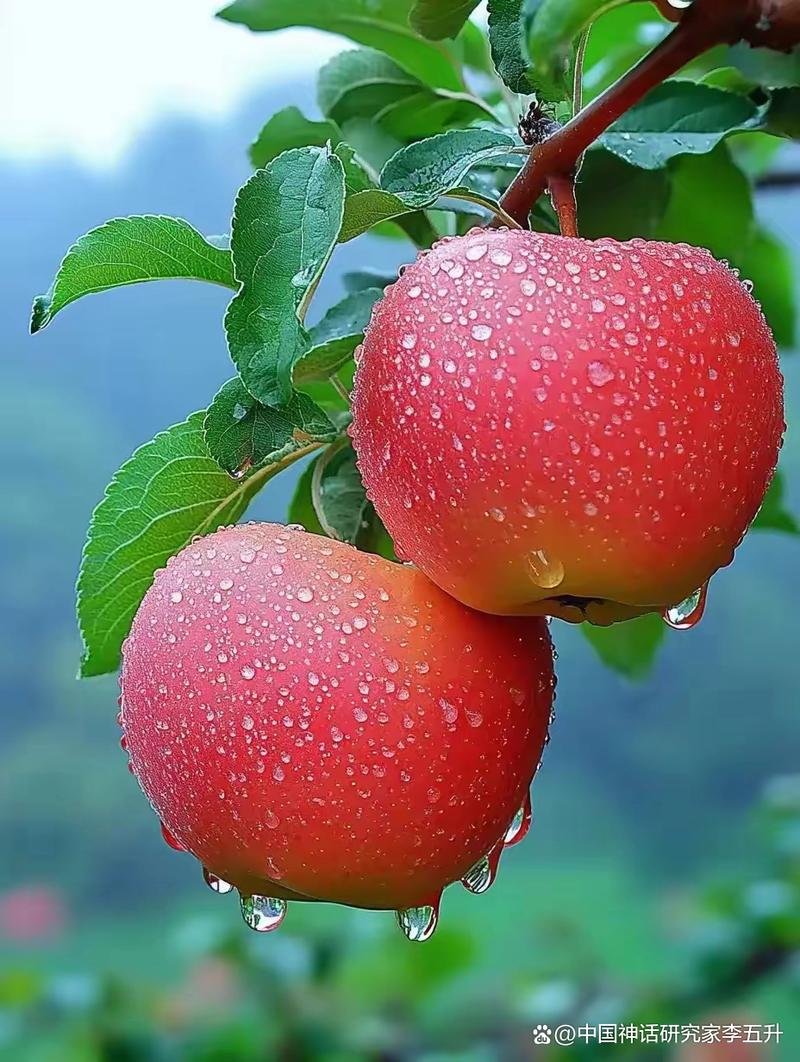ripe: (106, 517, 585, 932), (333, 217, 800, 629)
